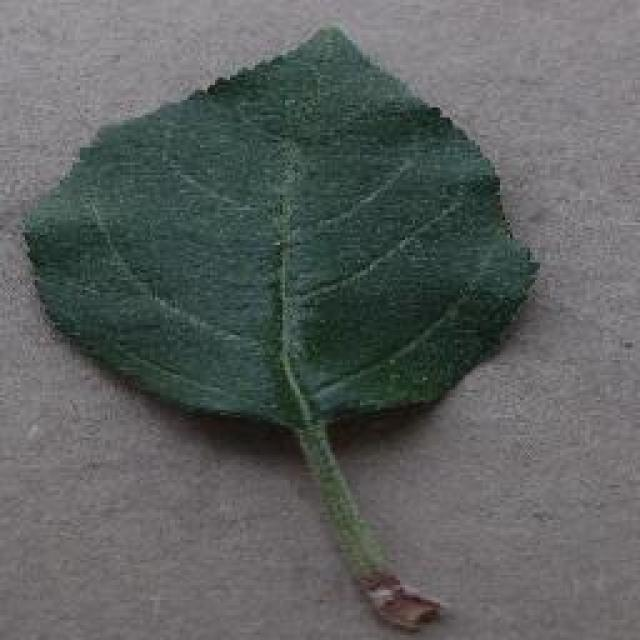apple healthy: (18, 20, 540, 630)
